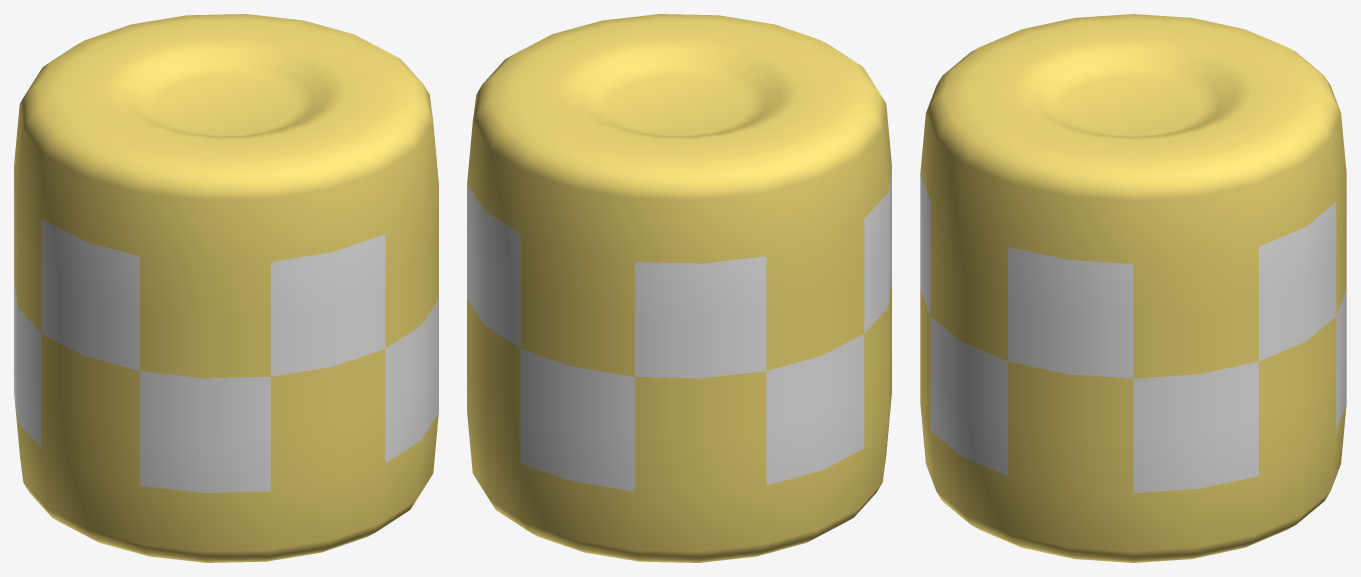
The model's file is Ottoman_2.glb.
3 views of the same model, side by side, from view 1: azimuth 30°, elevation 25°; view 2: azimuth 150°, elevation 25°; view 3: azimuth 270°, elevation 25° (orthographic).
Visible parts, largest first — view 1: Ottoman_2; view 2: Ottoman_2; view 3: Ottoman_2.
Boxes of the visible parts, left/top/right/bottom form: Ottoman_2: left=14, top=14, right=438, bottom=562; Ottoman_2: left=467, top=14, right=891, bottom=562; Ottoman_2: left=920, top=14, right=1346, bottom=562.
Bounding box in the file's own units: 0.546 × 0.5616 × 0.546.
1 material, 1 textured.
